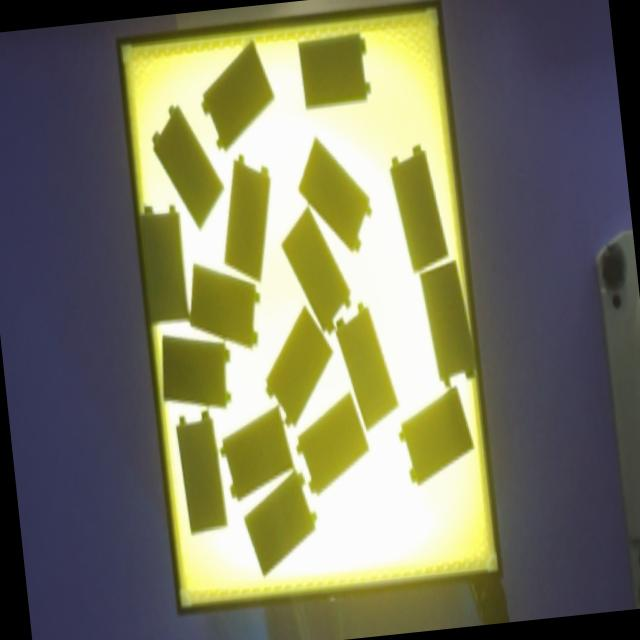bateria: (280, 205, 351, 333), (152, 105, 224, 229), (298, 135, 372, 251), (265, 305, 333, 427), (201, 38, 274, 151), (242, 470, 317, 577), (335, 303, 397, 429), (389, 145, 449, 273), (296, 391, 369, 494), (418, 260, 476, 386), (397, 389, 472, 486), (218, 406, 293, 500), (176, 413, 227, 533), (190, 263, 259, 348), (141, 204, 189, 325), (224, 154, 270, 280), (298, 33, 371, 109), (162, 334, 230, 406)
mesa: (115, 0, 503, 616)
